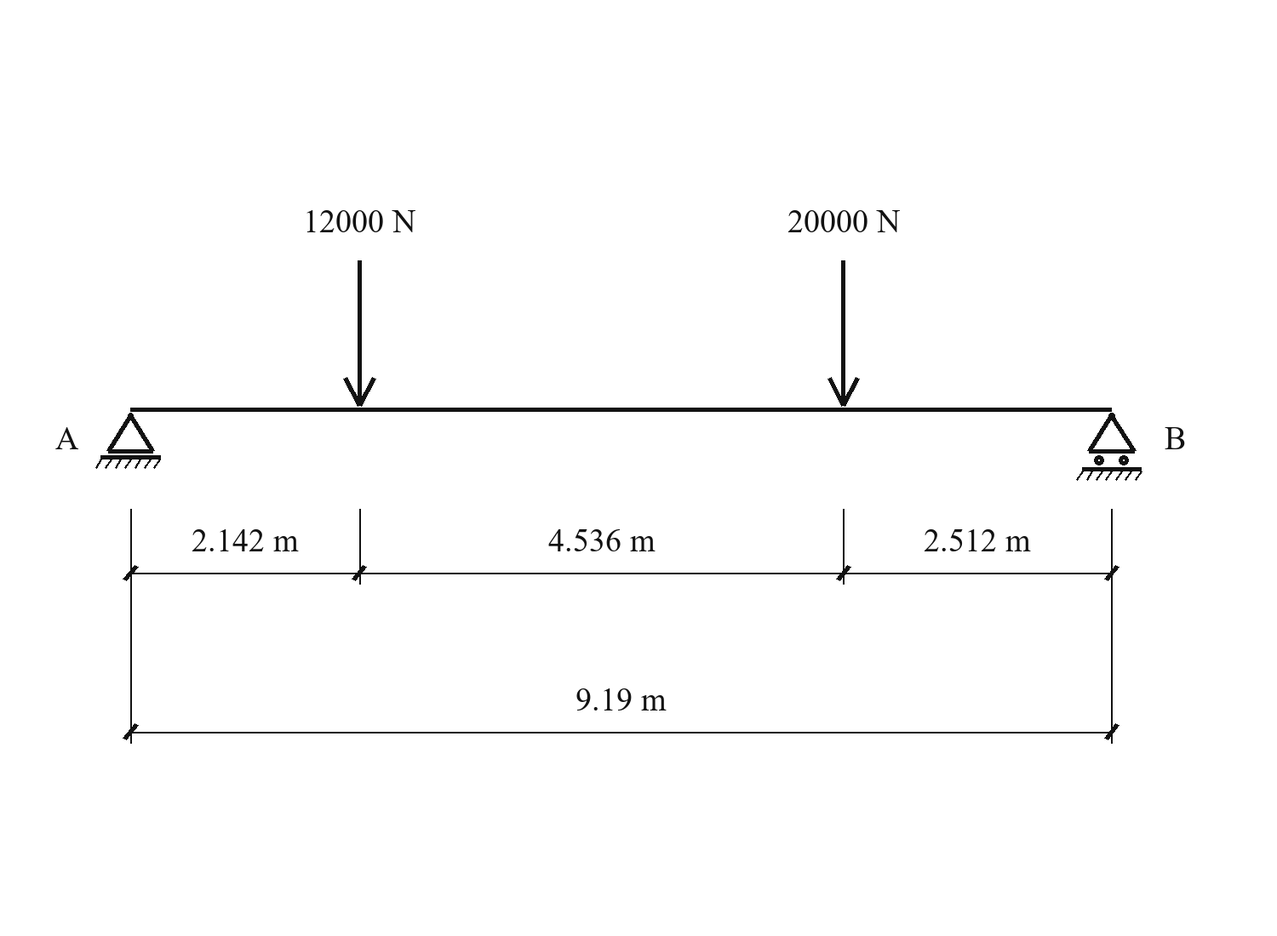pin_support: (95, 413, 161, 469)
point_load: (343, 260, 376, 407), (827, 260, 860, 407)
roller_support: (1076, 413, 1142, 481)
